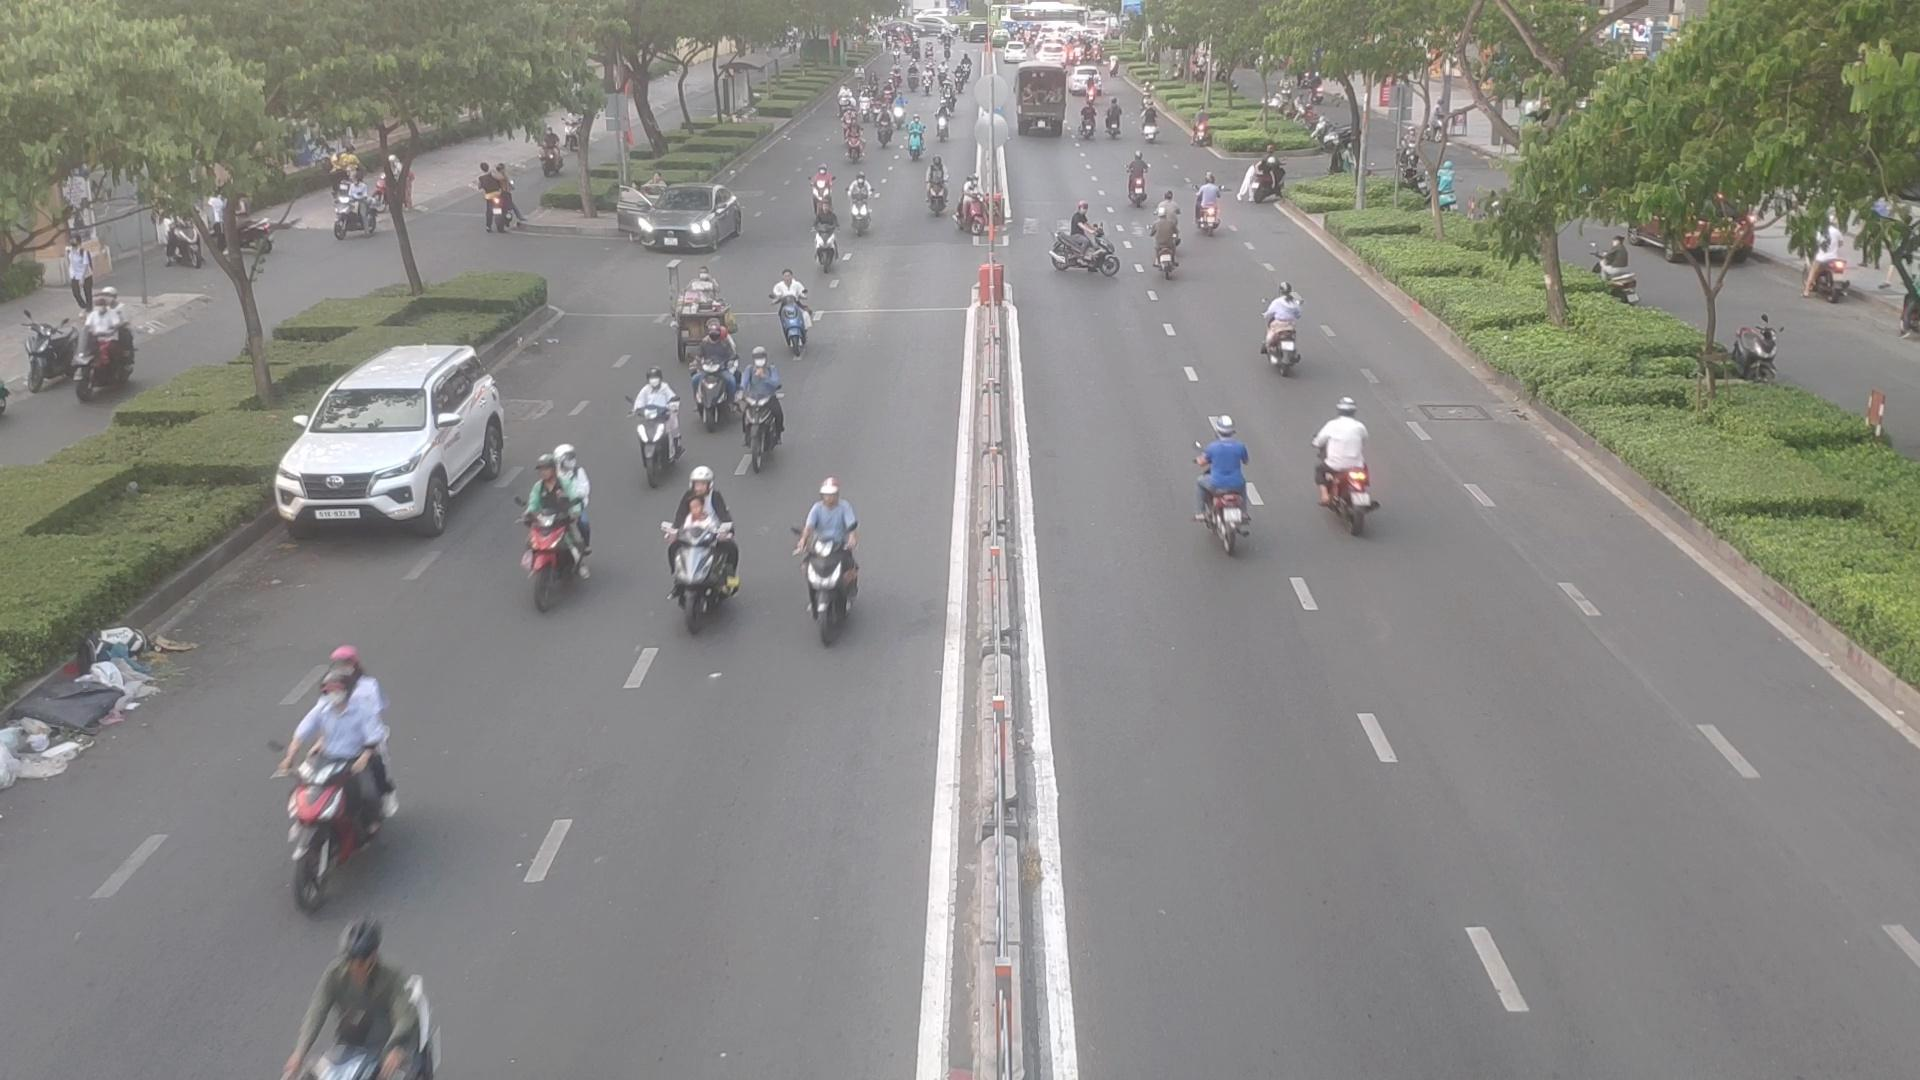car: (272, 344, 510, 533), (622, 189, 748, 258)
motorbike: (281, 647, 400, 884), (301, 926, 444, 1080), (1187, 406, 1265, 550), (670, 462, 736, 626), (524, 436, 591, 597), (1309, 386, 1381, 529), (799, 481, 861, 636), (622, 378, 683, 487), (735, 359, 787, 464), (1056, 196, 1113, 290), (691, 320, 738, 425), (1261, 270, 1302, 371), (767, 266, 811, 351), (1147, 207, 1180, 277), (808, 199, 840, 266), (836, 173, 872, 229), (1121, 146, 1156, 203), (923, 156, 949, 219), (1193, 173, 1221, 224), (957, 174, 981, 231)
